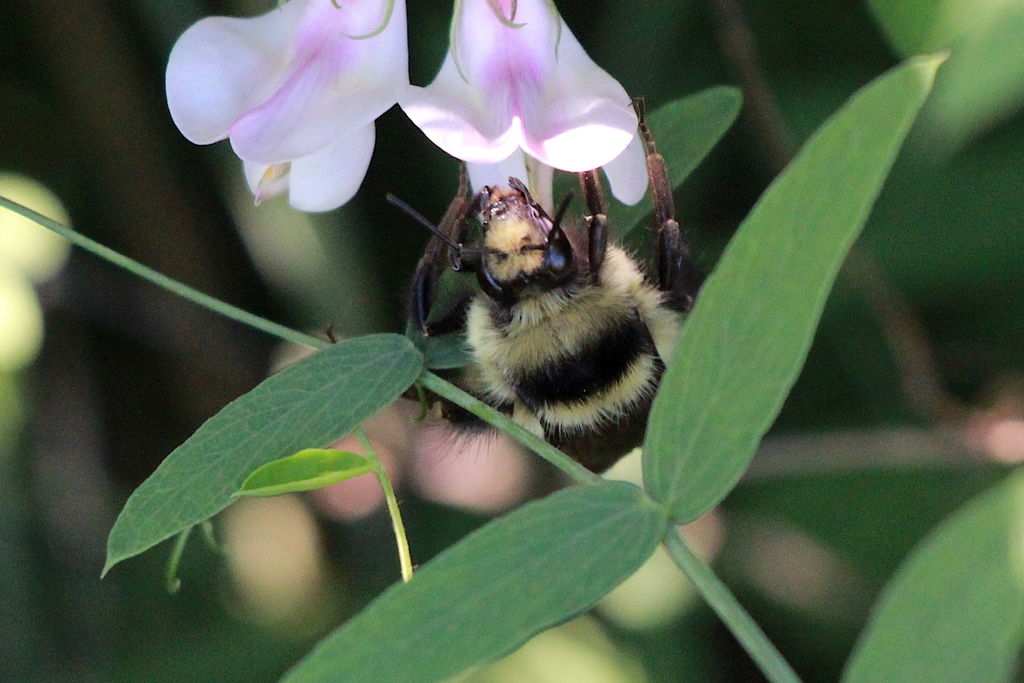bumblebee: (414, 95, 693, 476)
